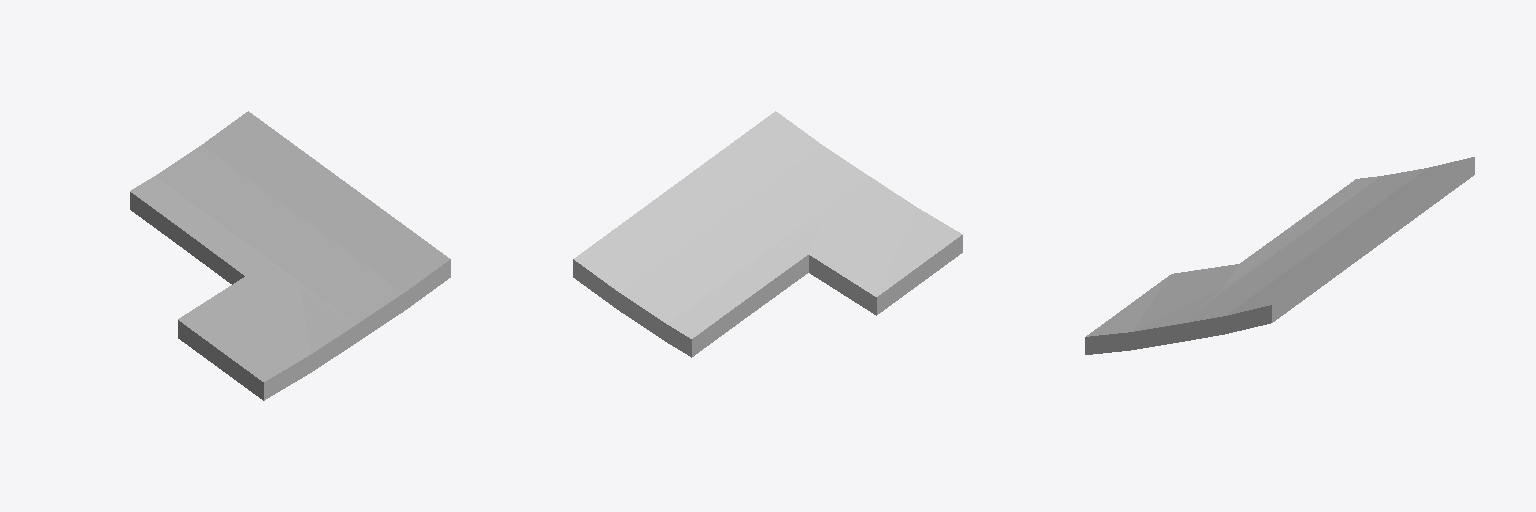
File: house26.obj
The picture shows the model from 3 angles: view 1: azimuth 30°, elevation 25°; view 2: azimuth 150°, elevation 25°; view 3: azimuth 330°, elevation 25°; orthographic projection.
Parts seen in each view (by area): view 1: 立方体.028; view 2: 立方体.028; view 3: 立方体.028.
Part boxes in pixels (left/top/right/bottom): 立方体.028: left=130, top=111, right=450, bottom=400; 立方体.028: left=573, top=111, right=962, bottom=357; 立方体.028: left=1085, top=157, right=1474, bottom=354.
Size of the model in its own units: 32 by 15.71 by 60.